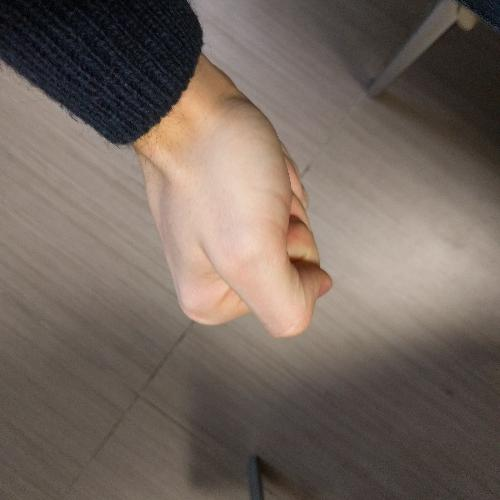rock: (138, 98, 344, 338)
